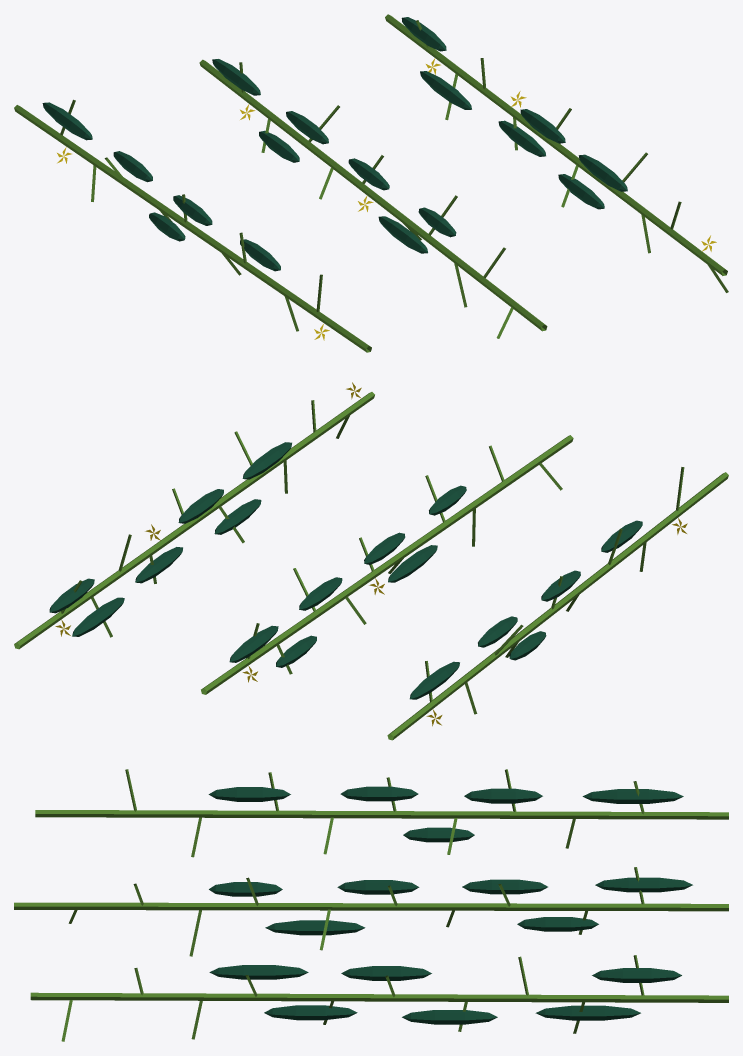
File: r6c5_stems.obj
The picture shows the model from 3 angles, top to bottom: view 1: azimuth 30°, elevation 25°; view 2: azimuth 150°, elevation 25°; view 3: azimuth 270°, elevation 25°; orthographic projection.
Parts seen in each view (by area): view 1: r6c5_stems; view 2: r6c5_stems; view 3: r6c5_stems.
Boxes of the visible parts, x1,y1,x2,y2 form: r6c5_stems: (14, 14, 728, 352); r6c5_stems: (14, 382, 728, 740); r6c5_stems: (14, 769, 728, 1041).
Bounding box in the file's own units: 1.37 × 0.31 × 2.01.
